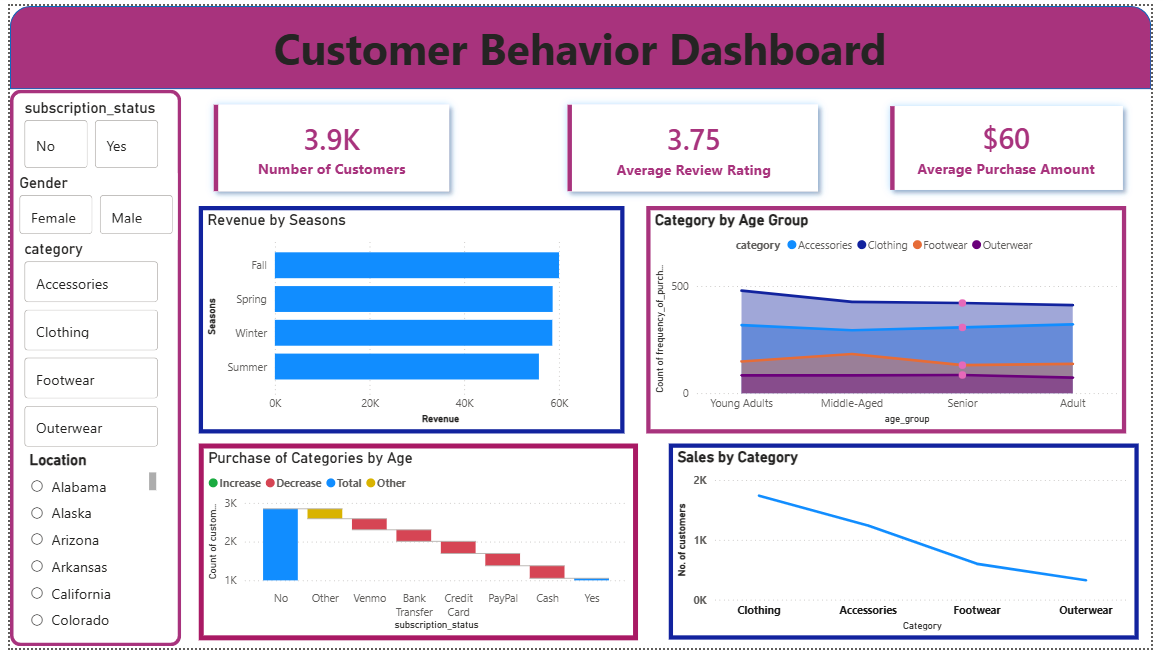

What the dashboard file says about the page in this screenshot:
{"tool":"powerbi","page":{"name":"Page 2","canvas":[1280,720],"ordinal":1},"visuals":[{"type":"shape","box":[0,0,1280.3,93.3],"z":0,"group":"g3"},{"type":"shape","box":[0,93.3,192.1,624.4],"z":0},{"type":"advancedSlicerVisual","fields":{"Values":["dev customer_behaviour.subscription_status"]},"box":[11,104.3,160.5,83.7],"z":0,"group":"g2"},{"type":"advancedSlicerVisual","title":"Gender","fields":{"Values":["dev customer_behaviour.gender"]},"box":[5.5,188,182.5,74.1],"z":0,"group":"g1"},{"type":"textbox","box":[137.2,9.6,1004.5,94.7],"z":1000,"group":"g3"},{"type":"cardVisual","fields":{"Data":["dev customer_behaviour.Average Purchase Amount"]},"box":[969,94,297.3,130.4],"z":1000},{"type":"group","id":"g1","title":"Group 1","box":[5.5,188,182.5,517.3],"z":1000,"group":"g2"},{"type":"advancedSlicerVisual","fields":{"Values":["dev customer_behaviour.category"]},"box":[11,262.1,160.5,237.4],"z":1000,"group":"g1"},{"type":"group","id":"g2","title":"Group 2","box":[5.5,104.3,182.5,601],"z":2000},{"type":"listSlicer","title":"Location","fields":{"Values":["dev customer_behaviour.location"]},"box":[16.5,499.5,152.3,205.8],"z":2000,"group":"g1"},{"type":"cardVisual","fields":{"Data":["dev customer_behaviour.Average Review Rating"]},"box":[608.6,94,315.5,131.8],"z":3000},{"type":"clusteredBarChart","title":"Revenue by Seasons","fields":{"Category":["dev customer_behaviour.season"],"Y":["Sum(dev customer_behaviour.purchase_amount)"]},"box":[211.3,223.7,477.5,255.2],"z":4000},{"type":"cardVisual","fields":{"Data":["dev customer_behaviour.Number of Customers"]},"box":[211.7,94,298.7,131.8],"z":5000},{"type":"lineChart","title":"Sales by Category","fields":{"Category":["dev customer_behaviour.category"],"Y":["CountNonNull(dev customer_behaviour.customer_id)"]},"box":[739,490.8,527.3,220.2],"z":6000},{"type":"waterfallChart","title":"Purchase of Categories by Age","fields":{"Category":["dev customer_behaviour.subscription_status"],"Y":["CountNonNull(dev customer_behaviour.customer_id)"],"Breakdown":["dev customer_behaviour.payment_method"]},"box":[211.3,491.3,492.6,220.9],"z":7000},{"type":"areaChart","title":"Category by Age Group","fields":{"Category":["dev customer_behaviour.age_group"],"Y":["CountNonNull(dev customer_behaviour.frequency_of_purchases)"],"Series":["dev customer_behaviour.category"]},"box":[713.8,224.4,538.5,255.2],"z":8000},{"type":"group","id":"g3","title":"Group 4","box":[0,0,1280.3,104.3],"z":9000}]}

Visuals, with their boxes in screenshot pixels (x1, y1, x2, y2), scaled from the page's 1280x720 canvas onto the 1163x666 screenshot:
shape: x1=0 y1=0 x2=1162 y2=86
shape: x1=0 y1=86 x2=175 y2=664
advancedSlicerVisual - dev customer_behaviour.subscription_status: x1=10 y1=96 x2=156 y2=174
"Gender" advancedSlicerVisual: x1=5 y1=174 x2=171 y2=242
textbox: x1=125 y1=9 x2=1037 y2=96
cardVisual - dev customer_behaviour.Average Purchase Amount: x1=880 y1=87 x2=1151 y2=208
"Group 1" group: x1=5 y1=174 x2=171 y2=652
advancedSlicerVisual - dev customer_behaviour.category: x1=10 y1=242 x2=156 y2=462
"Group 2" group: x1=5 y1=96 x2=171 y2=652
"Location" listSlicer: x1=15 y1=462 x2=153 y2=652
cardVisual - dev customer_behaviour.Average Review Rating: x1=553 y1=87 x2=840 y2=209
"Revenue by Seasons" clusteredBarChart: x1=192 y1=207 x2=626 y2=443
cardVisual - dev customer_behaviour.Number of Customers: x1=192 y1=87 x2=464 y2=209
"Sales by Category" lineChart: x1=671 y1=454 x2=1151 y2=658
"Purchase of Categories by Age" waterfallChart: x1=192 y1=454 x2=640 y2=659
"Category by Age Group" areaChart: x1=649 y1=208 x2=1138 y2=444
"Group 4" group: x1=0 y1=0 x2=1162 y2=96
